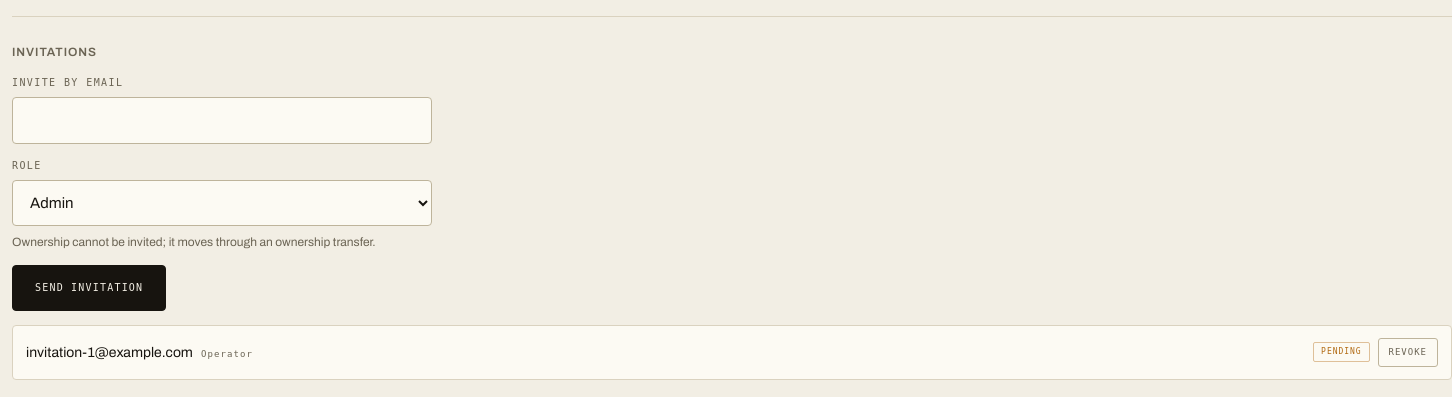
InvitationPanel revoking › revokes a pending invitation and keeps its record
Click the button "REVOKE".
click(1408, 352)  # box [1378, 338, 1438, 367]
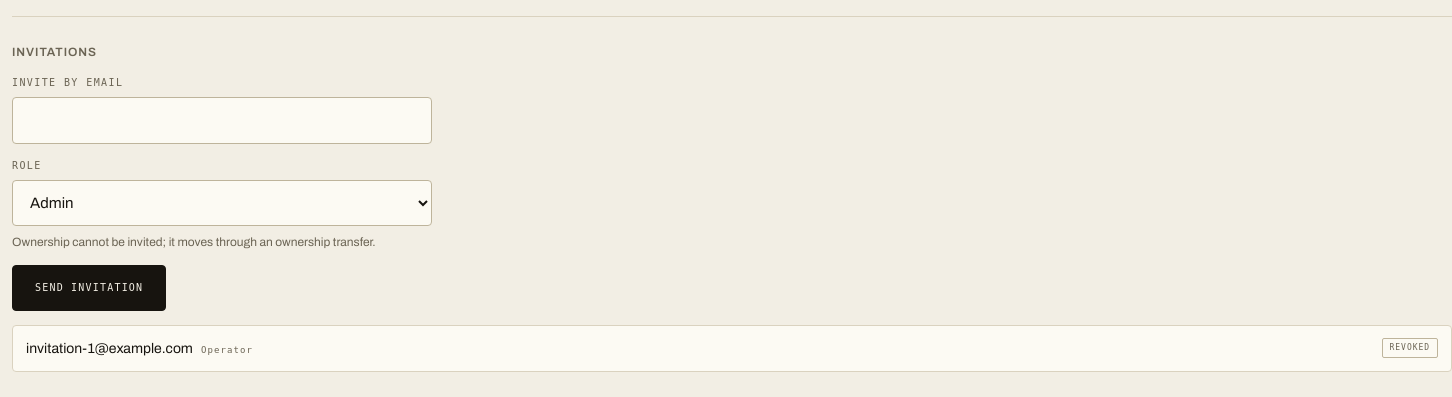
Check: the text "REVOKED" is shown, box [1382, 338, 1438, 358]
